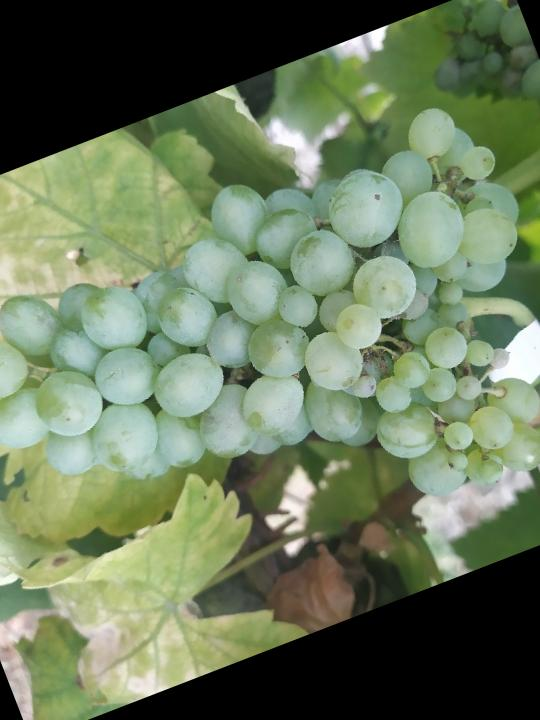grape: (0, 87, 540, 657)
